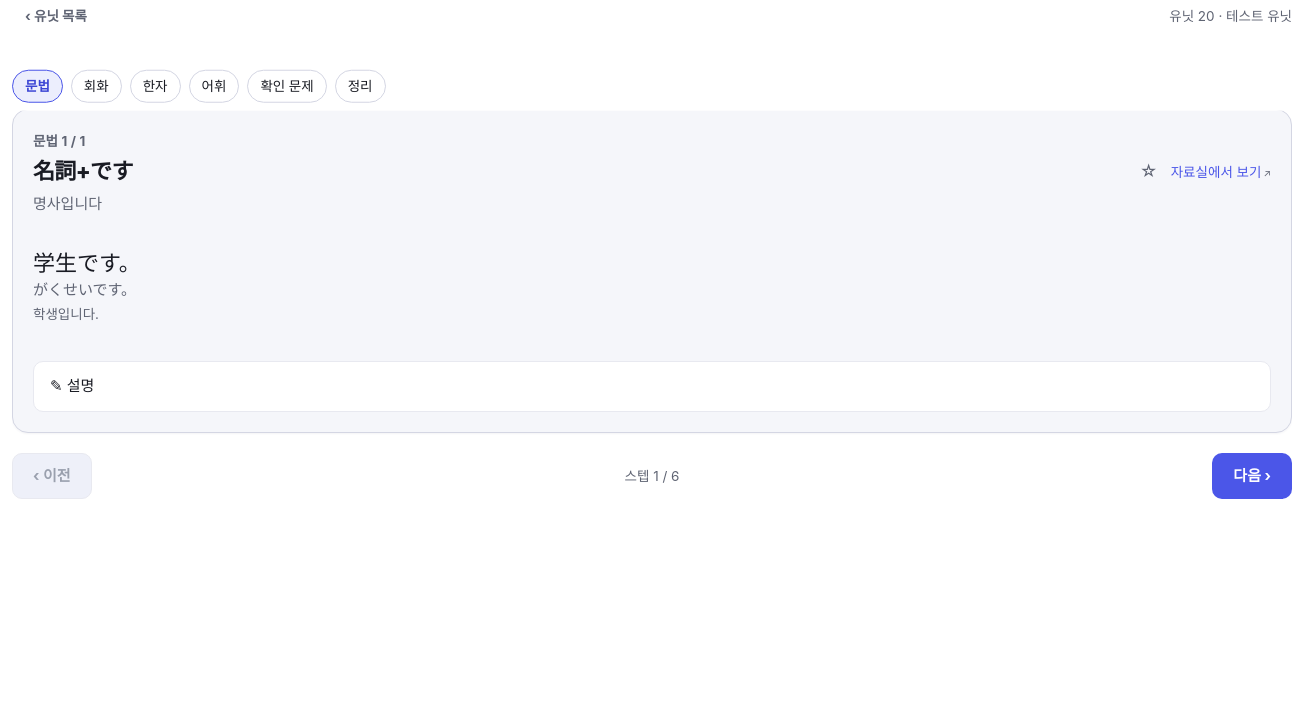
Scenario: 열린 데까지의 끝 — coursePlannedUnits (기획 §5-5 · 예외 E-4) › coursePlannedUnits가 null이면 지금 동작 그대로다 — 일본어 코스는 마지막 유닛에서 완주다
Click the button "정리" at (360, 86), box [335,70,386,102]
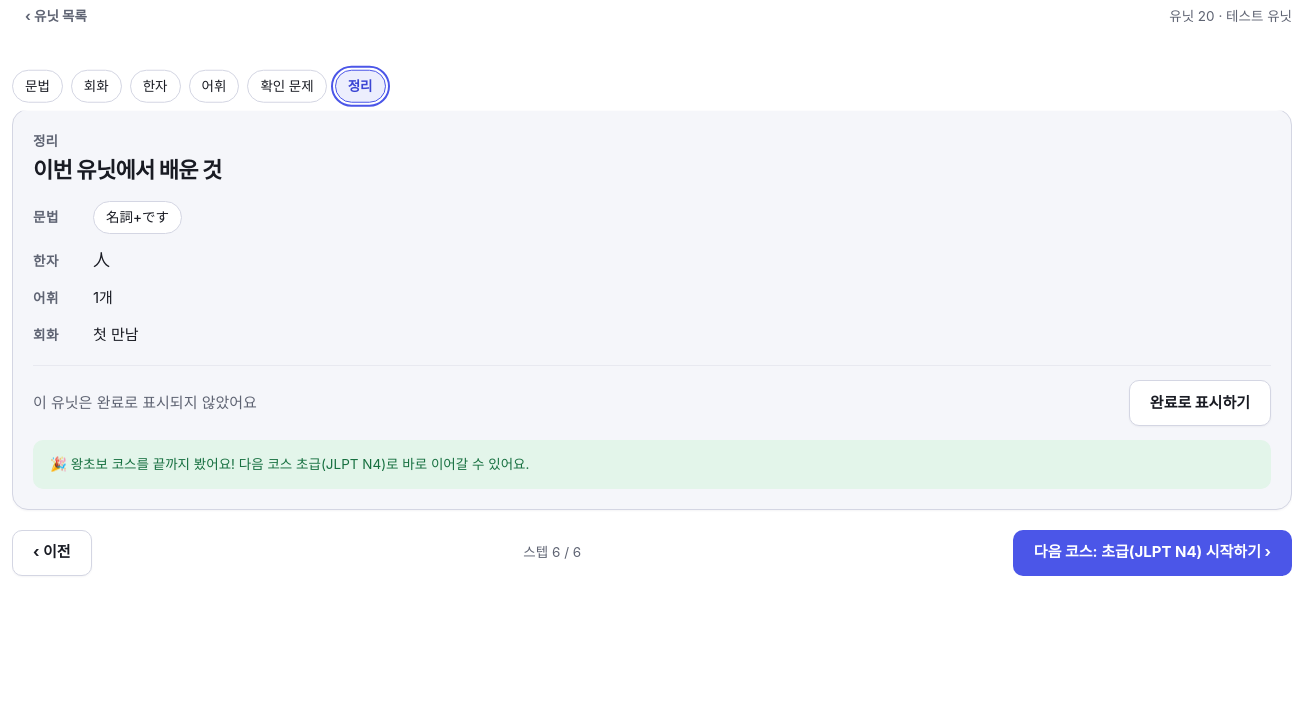
Result: the text "🎉 왕초보 코스를 끝까지 봤어요! 다음 코스 초급(JLPT N4)로 바로 이어갈 수 있어요." is shown at [33,440,1271,489]
